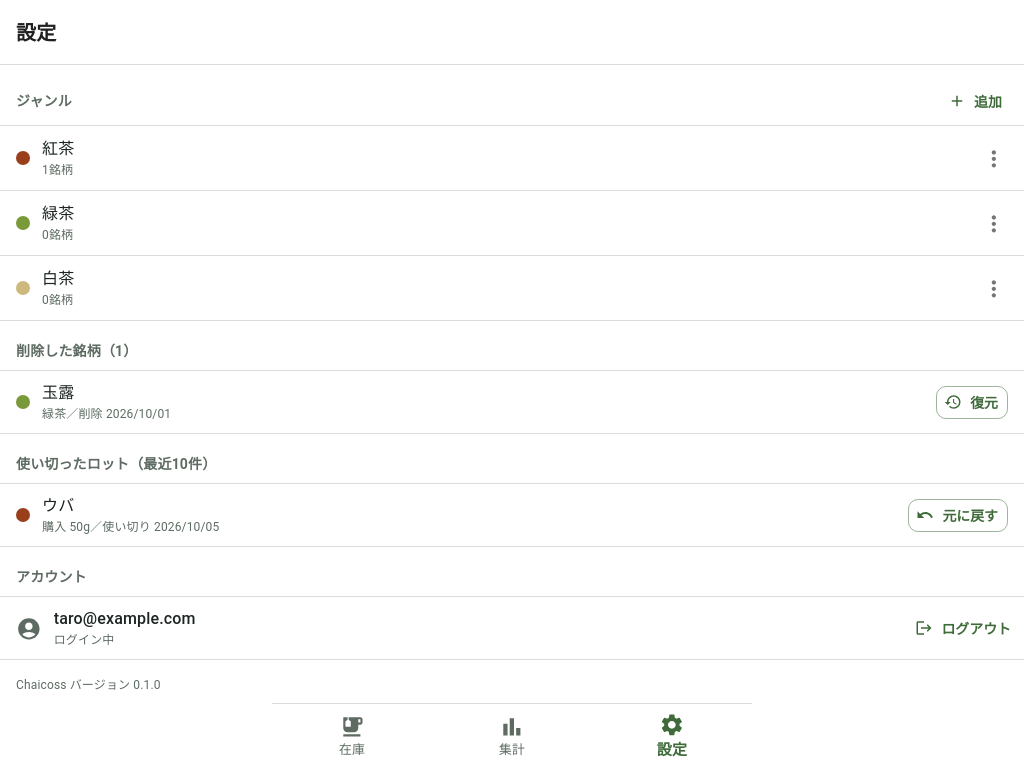
Test case: SC-07 設定：ジャンル › 銘柄（削除済みを含む）から使われているジャンルは削除できない
Click the 3rd button at (994, 223), box 972,201 -> 1016,245
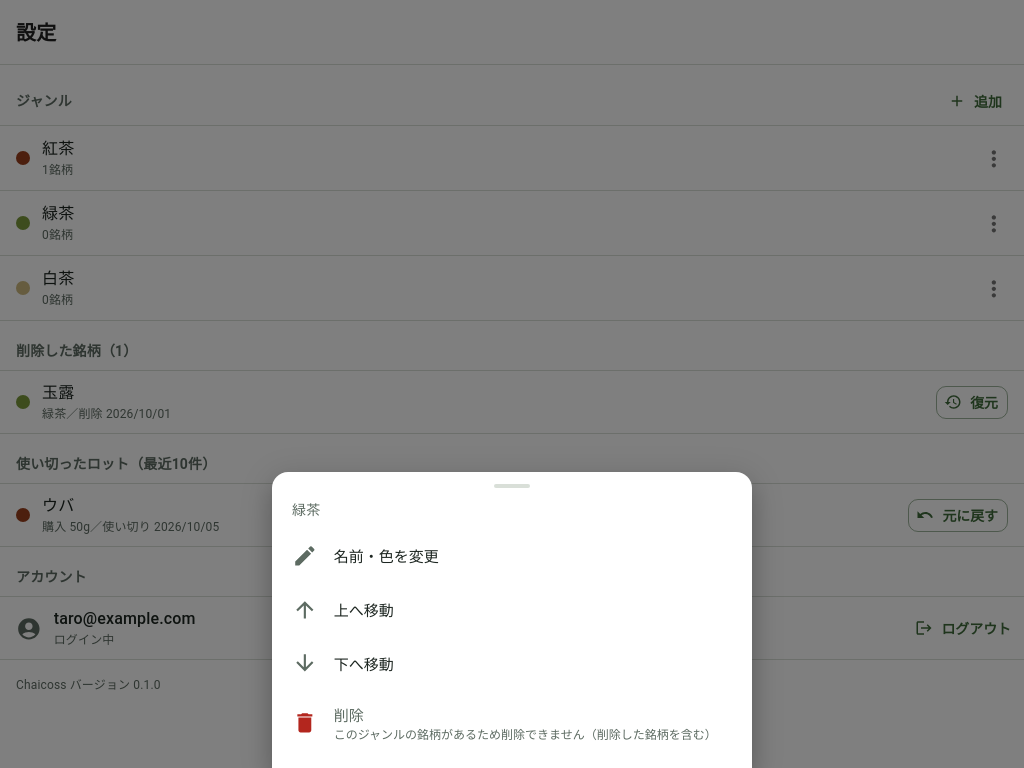
Expected: the menu item "削除 このジャンルの銘柄があるため削除できません（削除した銘柄を含む）" is disabled, 272,690 -> 752,756
Expected: the menu item "削除 このジャンルの銘柄があるため削除できません（削除した銘柄を含む）" is shown, 272,690 -> 752,756
